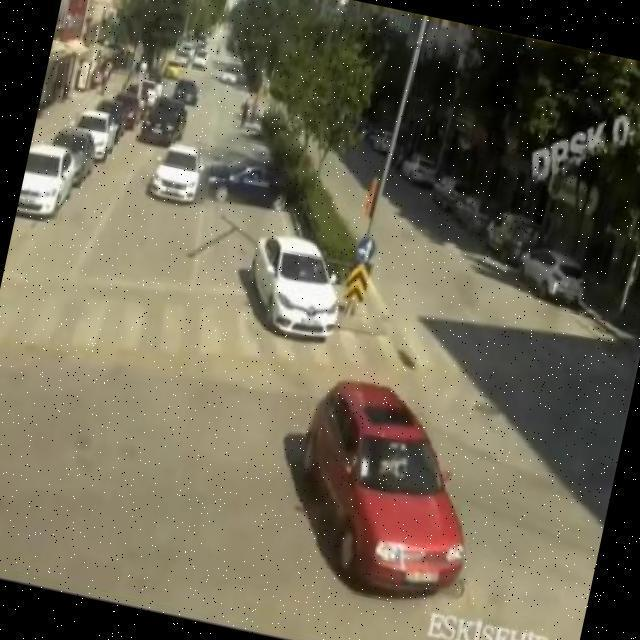accident: (141, 133, 313, 242)
